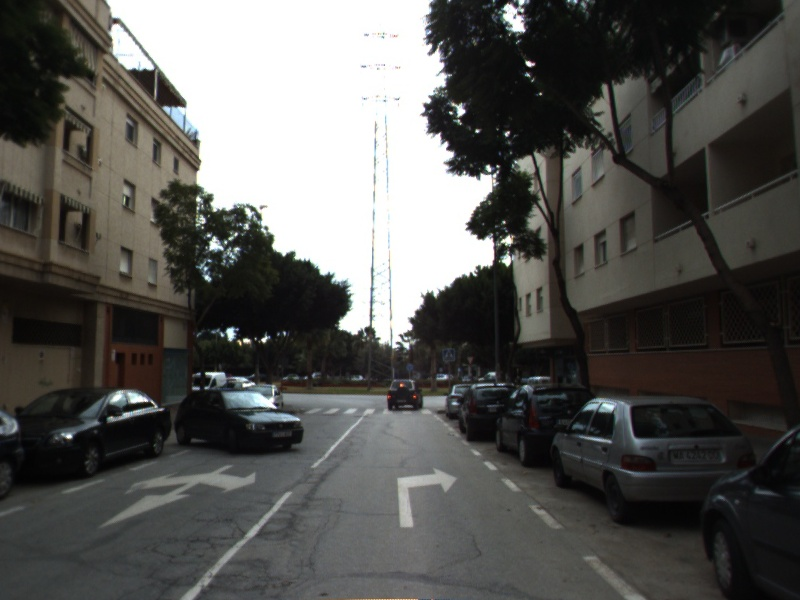RIGHT: (395, 465, 460, 529)
